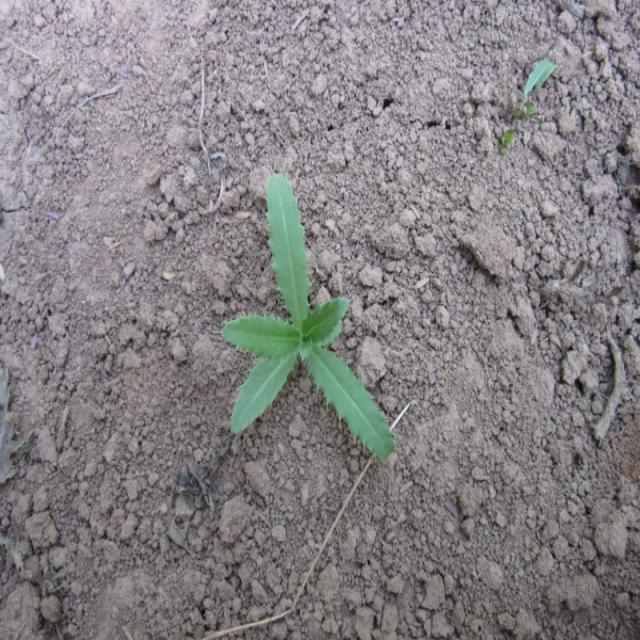cs: (218, 169, 398, 468)
